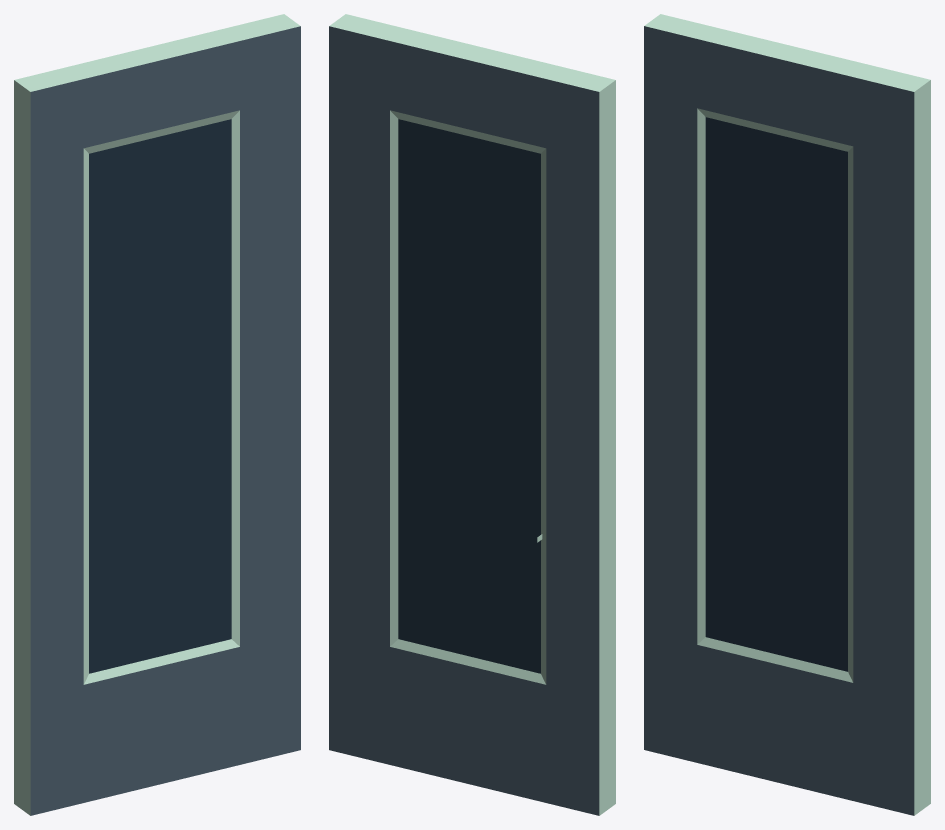
Rendered from halfdoor.fbx.
3 views of the same model, side by side, from view 1: azimuth 30°, elevation 25°; view 2: azimuth 150°, elevation 25°; view 3: azimuth 330°, elevation 25° (orthographic).
Parts seen in each view (by area): view 1: SM_Door_A1; view 2: SM_Door_A1; view 3: SM_Door_A1.
Boxes of the visible parts, bbox=[...] form: SM_Door_A1: bbox=[14, 14, 300, 815]; SM_Door_A1: bbox=[329, 14, 615, 815]; SM_Door_A1: bbox=[644, 14, 930, 815].
Size of the model in its own units: 187 by 479 by 24.44.
